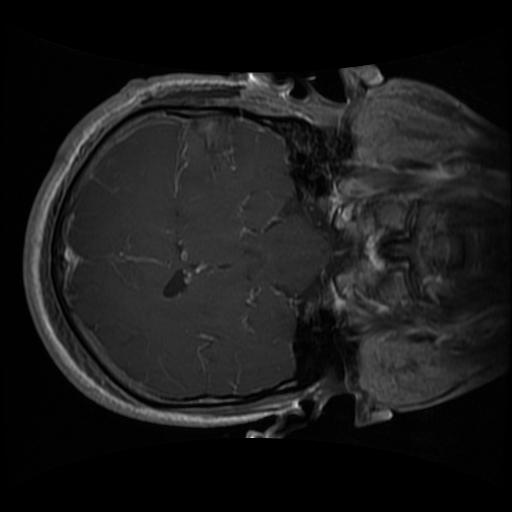glioma: (174, 115, 236, 175)
